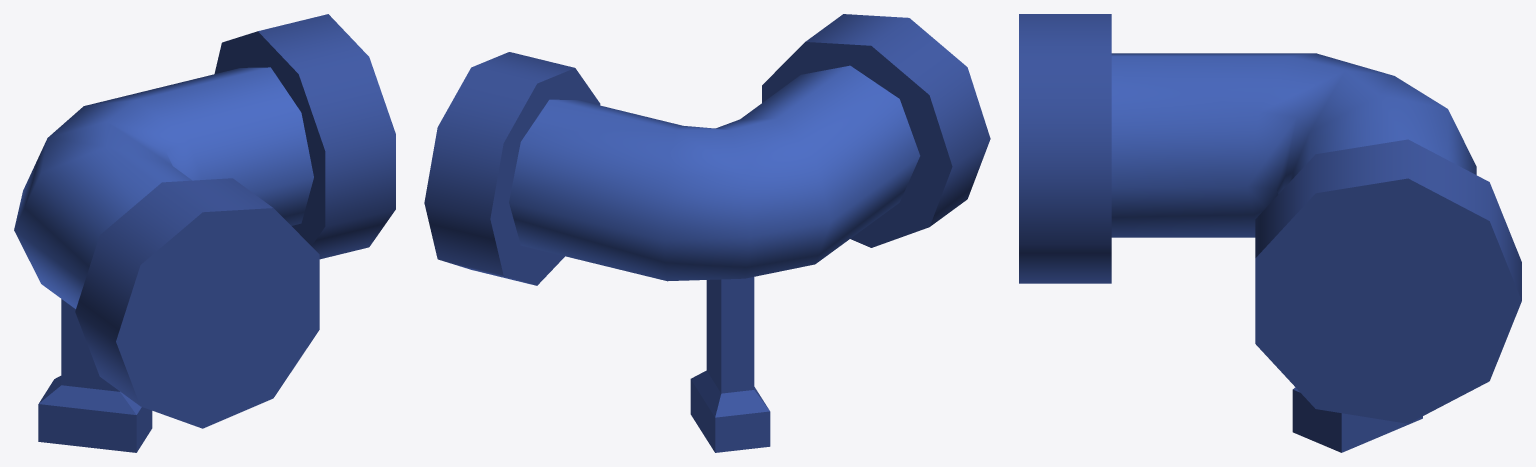
File: Pipe_1_D_3.fbx
The picture shows the model from 3 angles, left to right: view 1: azimuth 30°, elevation 25°; view 2: azimuth 150°, elevation 25°; view 3: azimuth 270°, elevation 25°; orthographic projection. The views are drawn at different scales.
Visible parts, largest first — view 1: Pipe_1_D_3; view 2: Pipe_1_D_3; view 3: Pipe_1_D_3.
Boxes of the visible parts, left/top/right/bottom form: Pipe_1_D_3: left=14, top=14, right=395, bottom=452; Pipe_1_D_3: left=424, top=14, right=990, bottom=452; Pipe_1_D_3: left=1019, top=14, right=1521, bottom=452.
Bounding box in the file's own units: 55.93 × 47.63 × 55.93.
